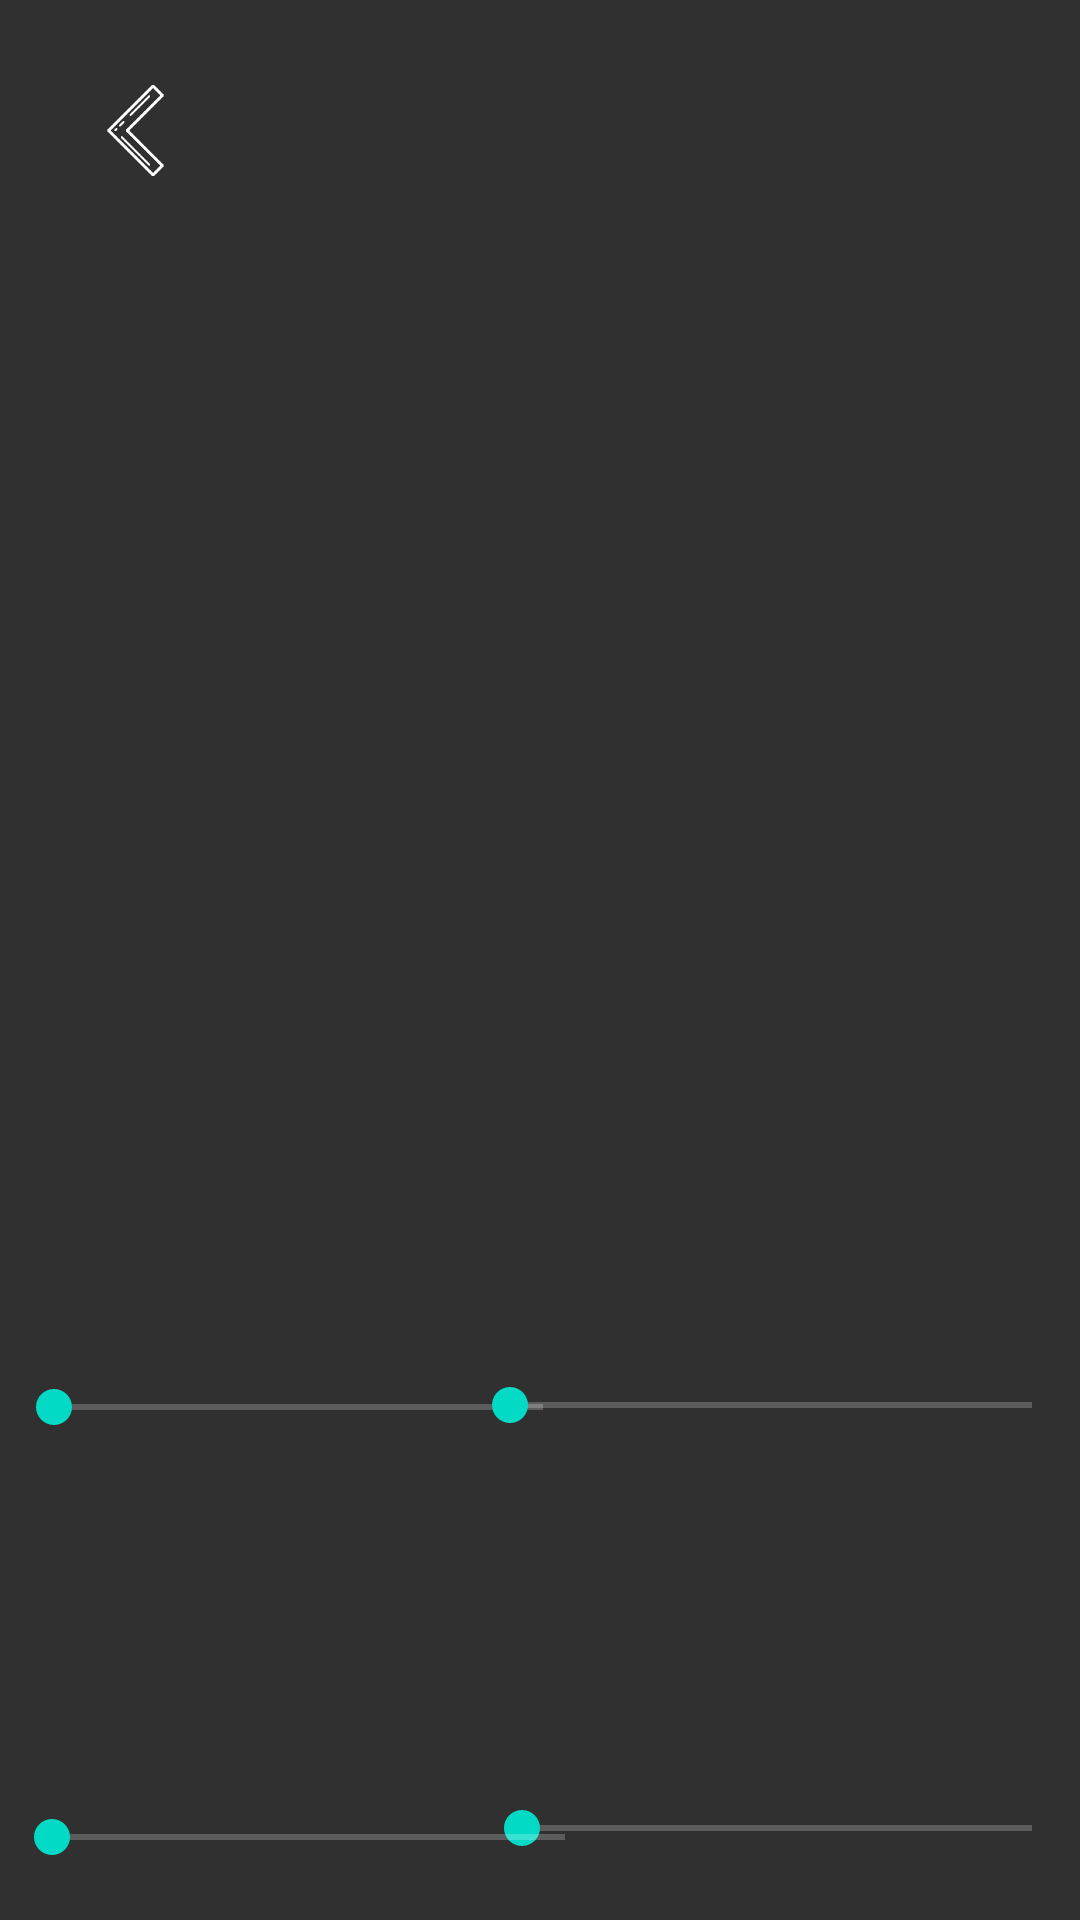

Icon click points for this 1080 × 1920 phone screenshot, format point (x, y):
back: point (135, 130)
